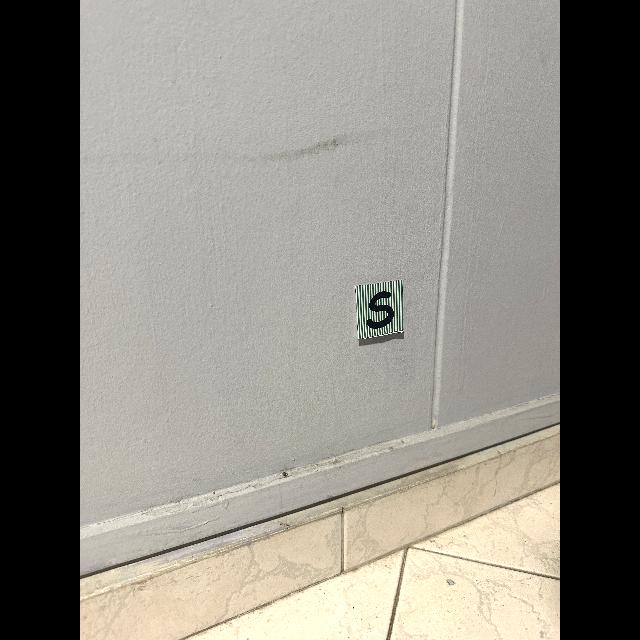S: (366, 291, 394, 329)
